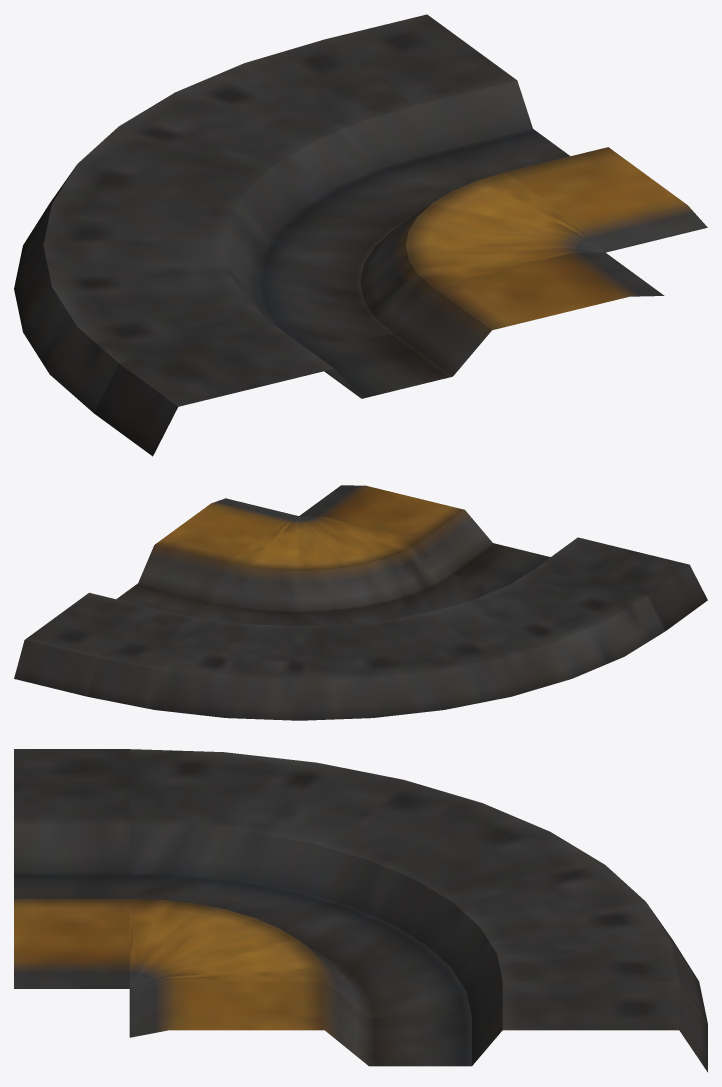
File: lab_floor_welder_convex_tiny.dae
The picture shows the model from 3 angles, top to bottom: view 1: azimuth 30°, elevation 25°; view 2: azimuth 150°, elevation 25°; view 3: azimuth 270°, elevation 25°; orthographic projection. The views are drawn at different scales.
Parts seen in each view (by area): view 1: floor_welder_convex_tiny; view 2: floor_welder_convex_tiny; view 3: floor_welder_convex_tiny.
Part boxes in pixels (x1,y1,x2,y2): floor_welder_convex_tiny: [14, 14, 707, 456]; floor_welder_convex_tiny: [14, 485, 707, 720]; floor_welder_convex_tiny: [14, 749, 707, 1072].
Bounding box in the file's own units: 0.375 × 0.0254 × 0.375.
